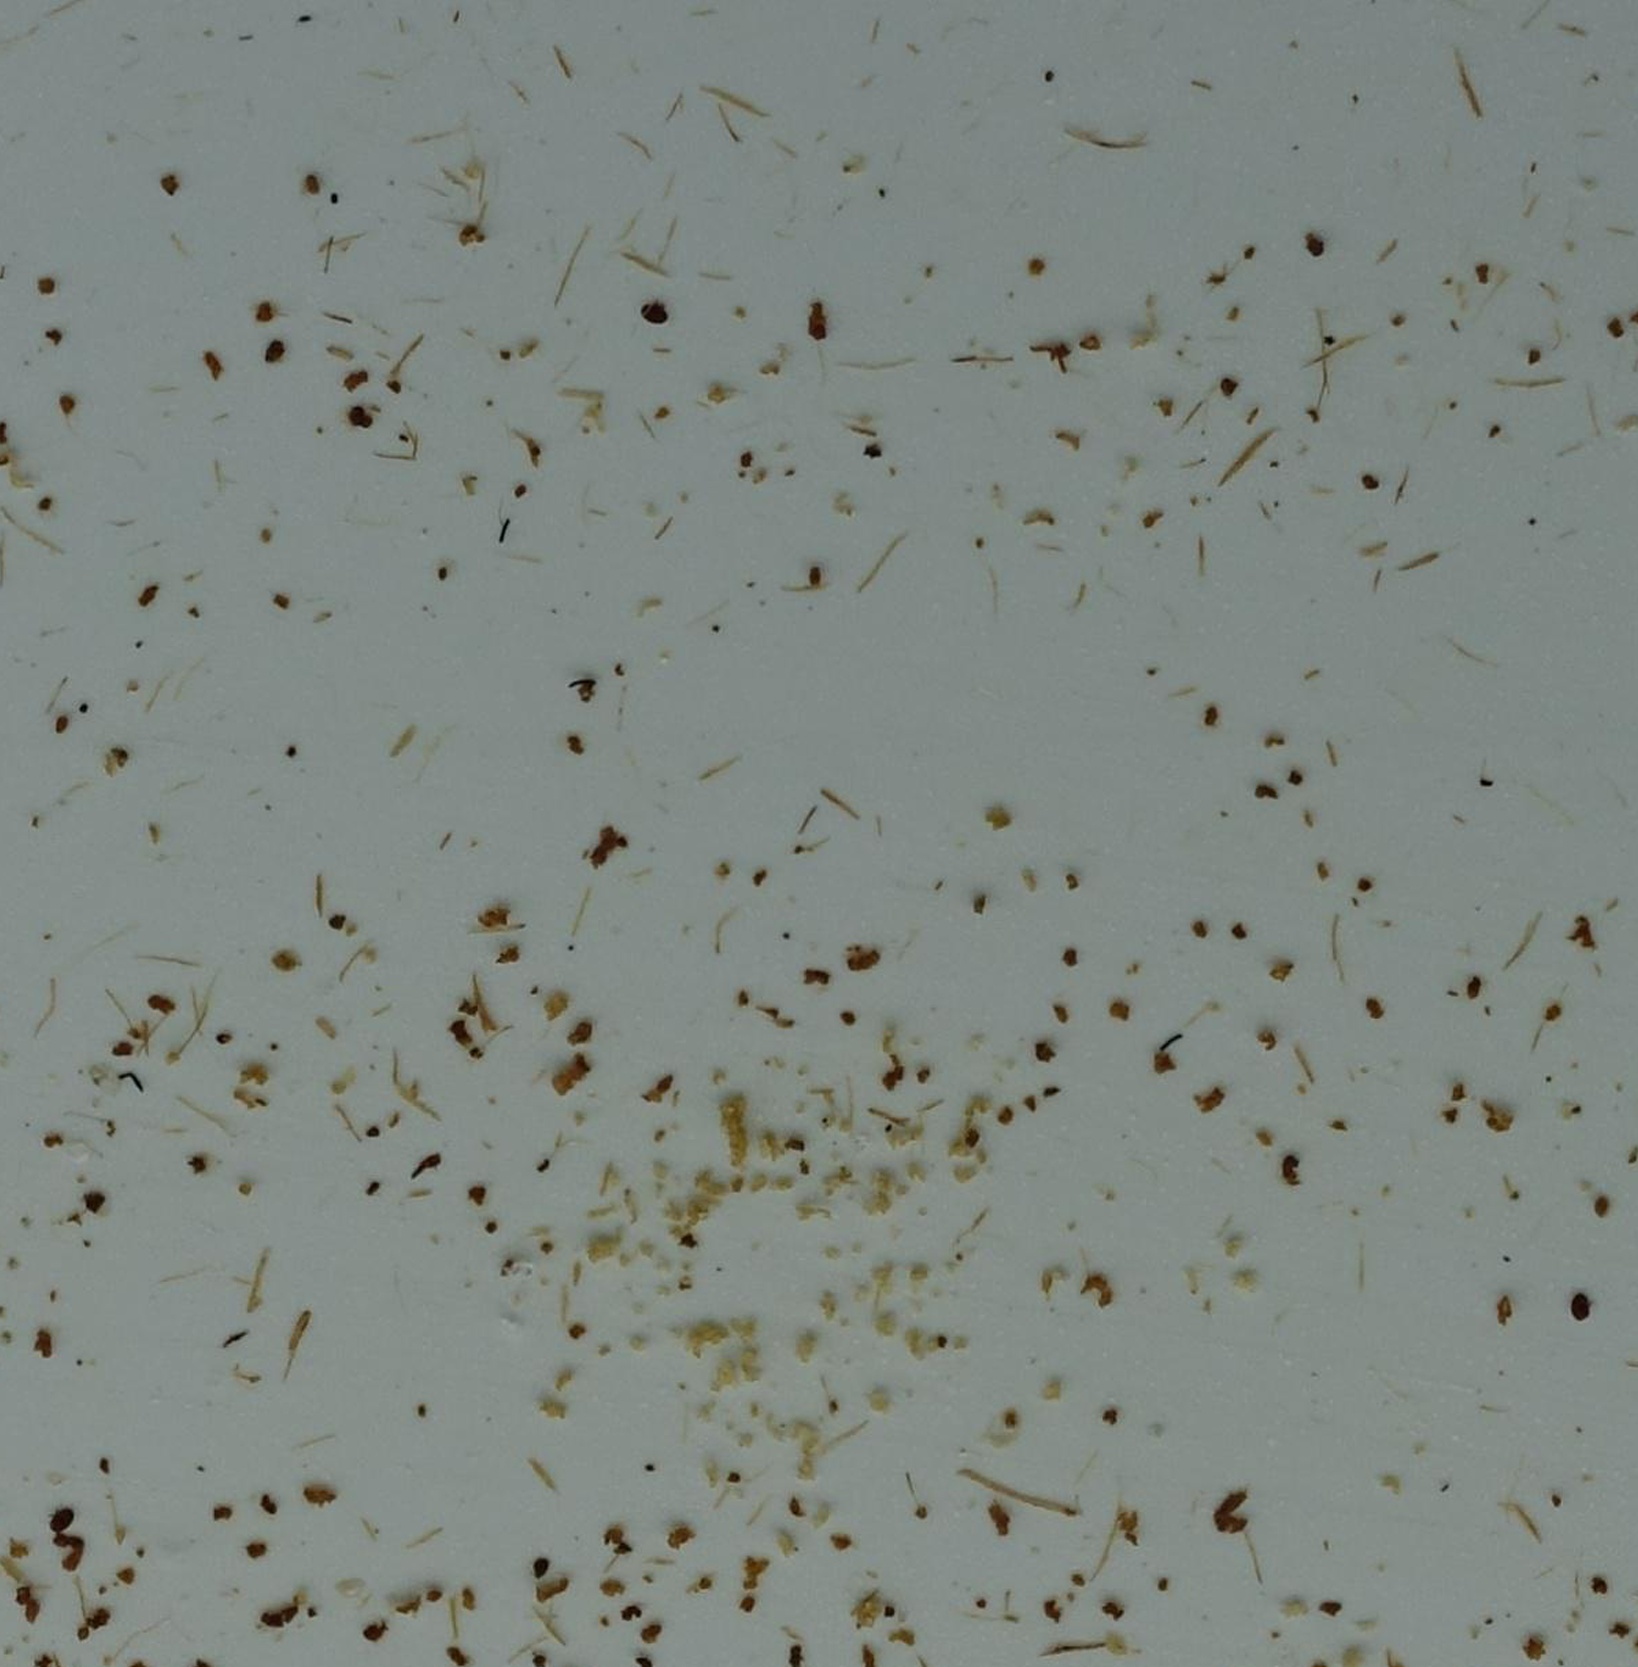Varroa: (637, 299, 666, 329), (1567, 1292, 1594, 1320), (46, 1509, 70, 1533)
